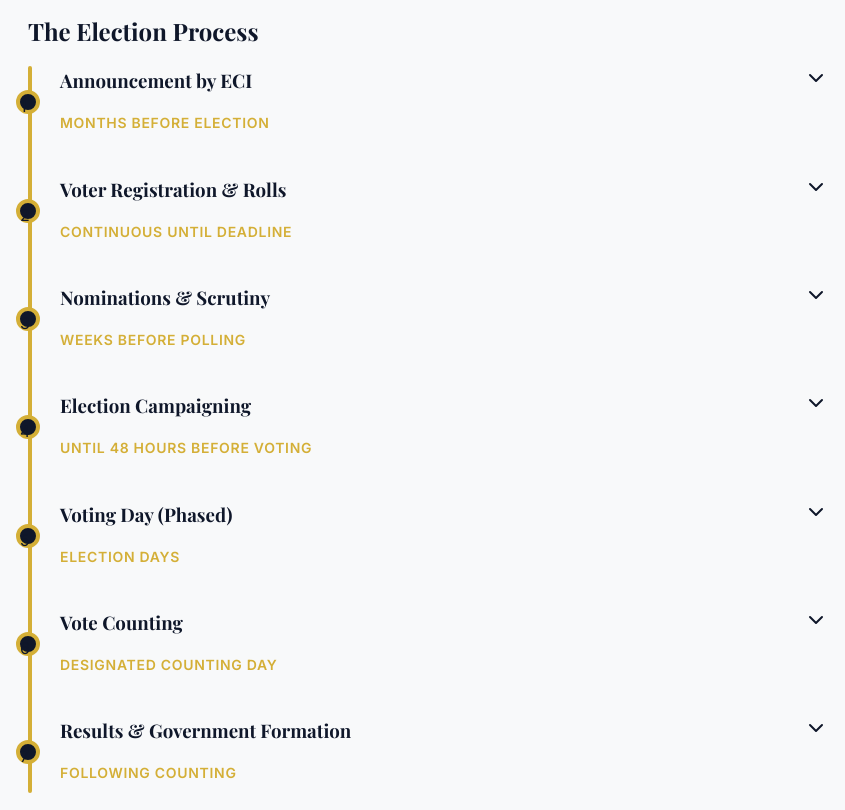
Test: Timeline Component › toggles expansion state when clicked
What coordinates should you click on to do the following:
click the button "Announcement by ECI"
I would click on:
 (156, 81)
Its box is [60,66,828,143].
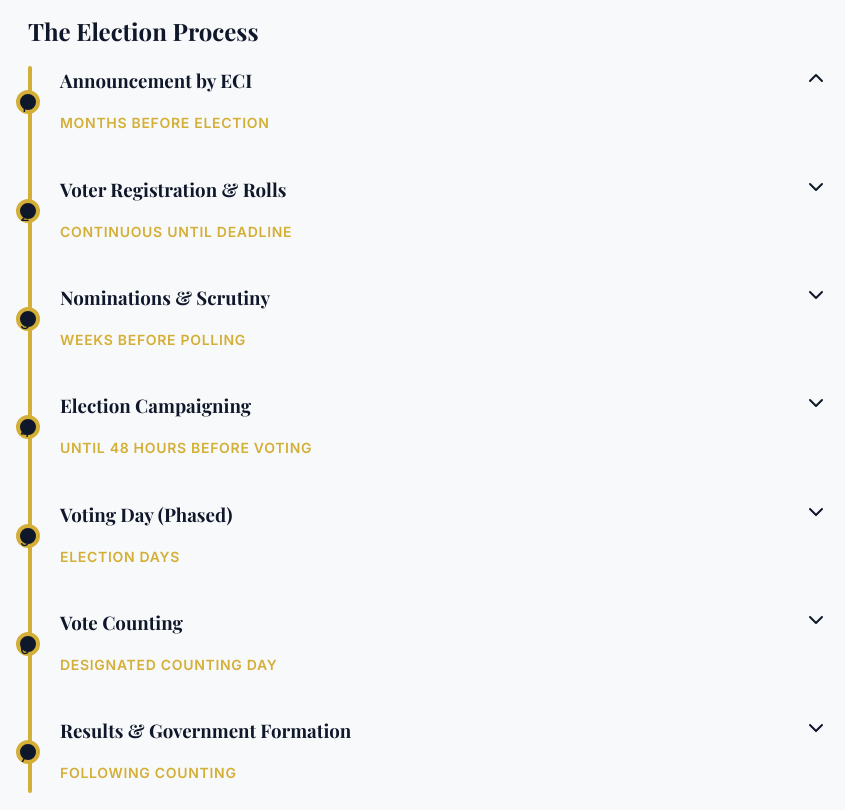
Result: the button "Announcement by ECI" is expanded
What coordinates should you click on to do the following:
click the button "Announcement by ECI"
I would click on:
 (156, 81)
Its box is [60,66,828,143].
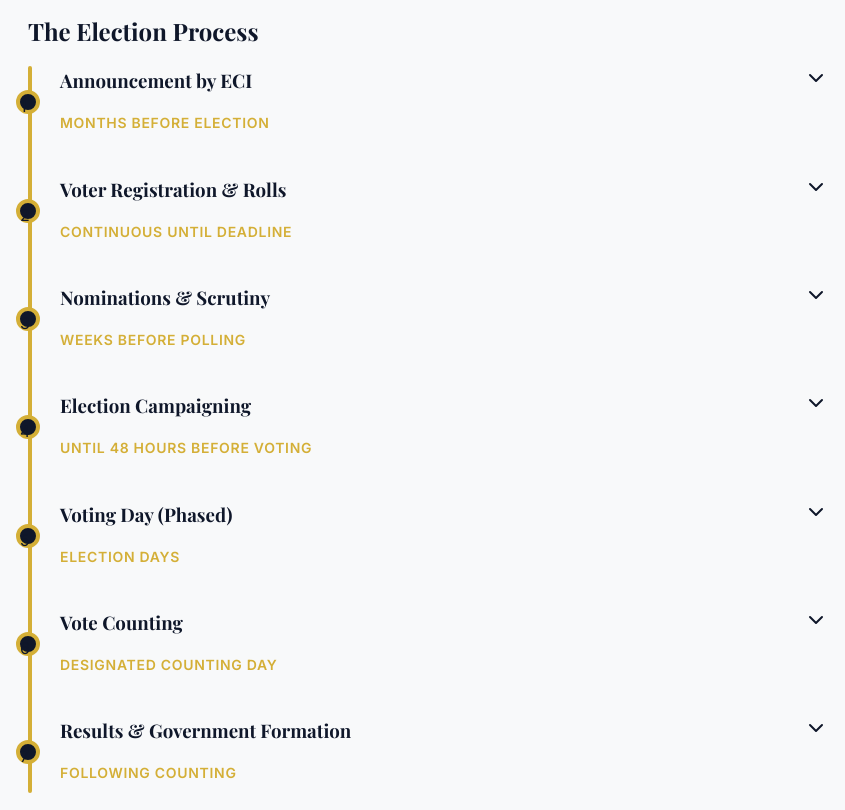
Result: the button "Announcement by ECI" is collapsed at [60,66,828,143]
